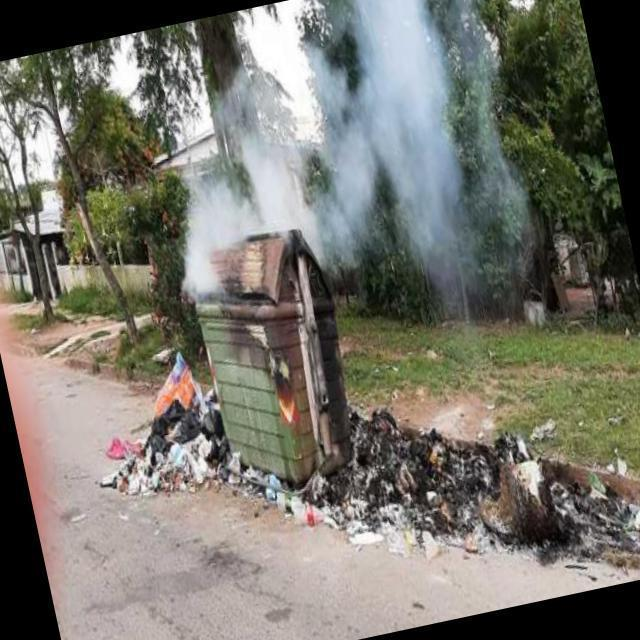garbage: (246, 345, 640, 640), (80, 366, 243, 502)
